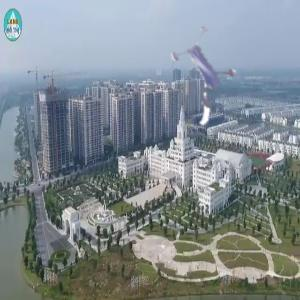drone: (157, 30, 244, 117)
